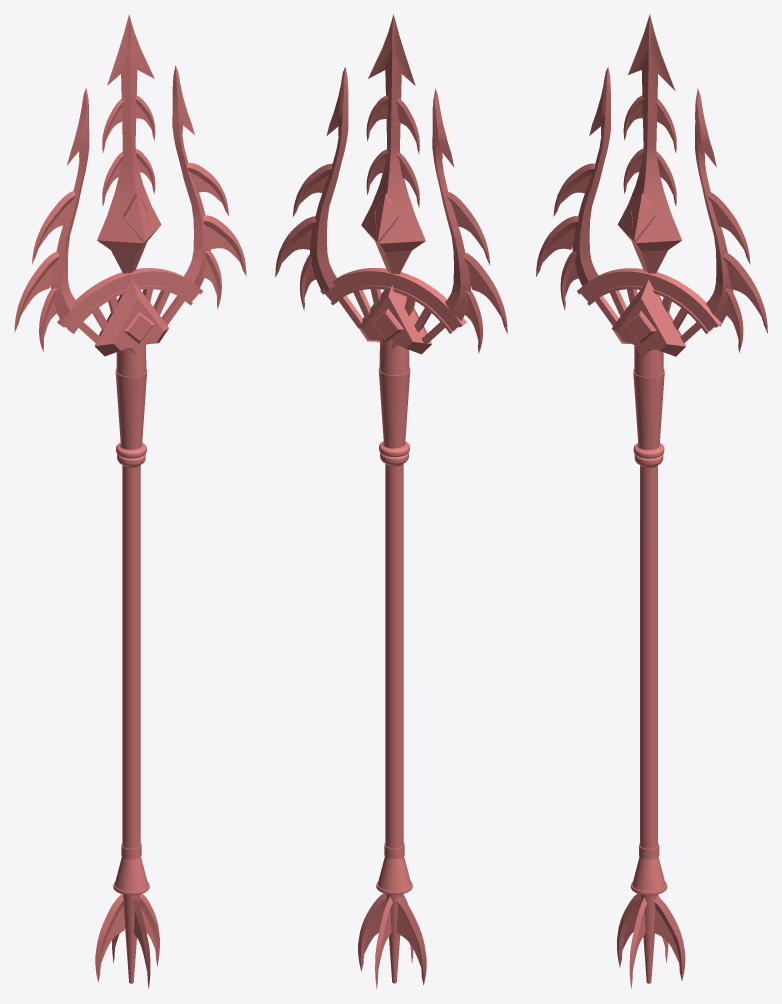
Rendered from SM_trident.fbx.
The picture shows the model from 3 angles, left to right: view 1: azimuth 30°, elevation 25°; view 2: azimuth 150°, elevation 25°; view 3: azimuth 330°, elevation 25°; orthographic projection.
Visible parts, largest first — view 1: polySurface2242; view 2: polySurface2242; view 3: polySurface2242.
Boxes of the visible parts, box(x1,y1,x2,y2) form: polySurface2242: box(14, 14, 246, 988); polySurface2242: box(275, 14, 507, 989); polySurface2242: box(536, 14, 767, 988).
Size of the model in its own units: 45.3 by 181 by 13.05.
